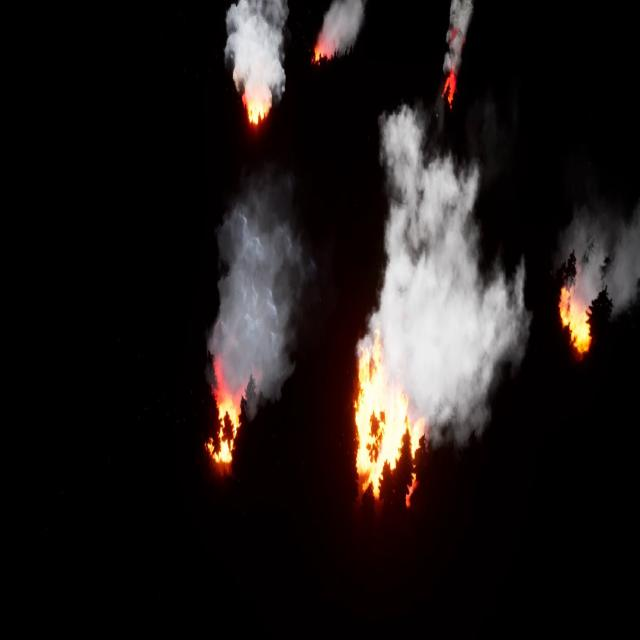fire: (351, 344, 425, 502), (201, 354, 257, 476), (557, 286, 593, 363), (238, 88, 272, 119), (311, 34, 335, 66), (440, 76, 458, 99)
smoke: (367, 110, 535, 428), (211, 174, 299, 418), (568, 203, 640, 308), (225, 0, 291, 82), (441, 0, 482, 73), (324, 0, 373, 54)
